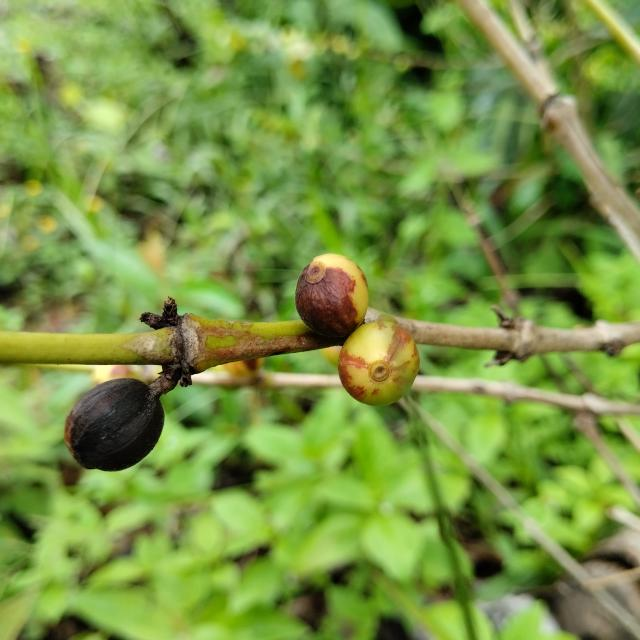Overripe: (64, 379, 164, 472), (338, 321, 420, 406), (295, 254, 369, 337)
